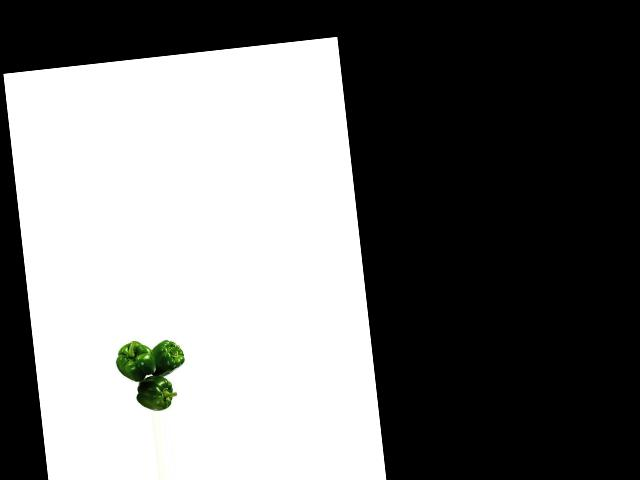bell_pepper: (110, 335, 158, 383)
